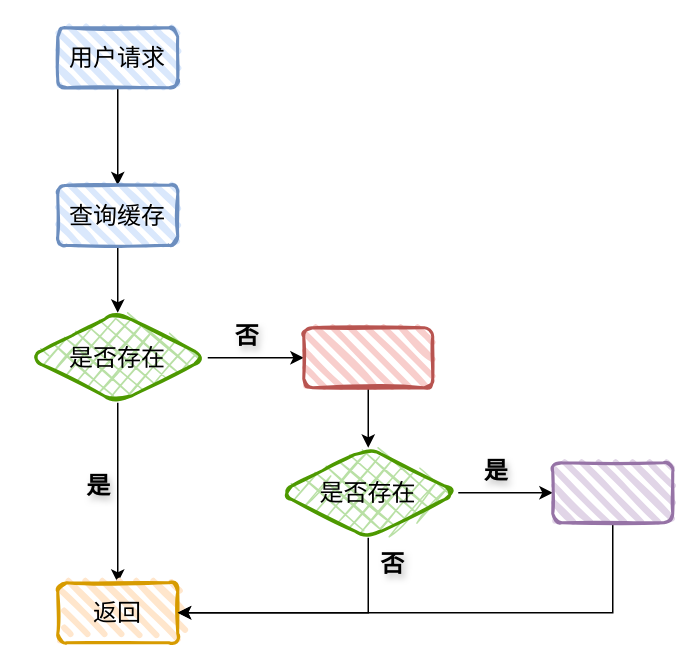
This 699x669 diagram has some shape labels left out. The centre of each missing label's shape, as x and y in pixels:
"放入缓存" belongs at (x=612, y=492).
"查询数据库" belongs at (x=368, y=357).
